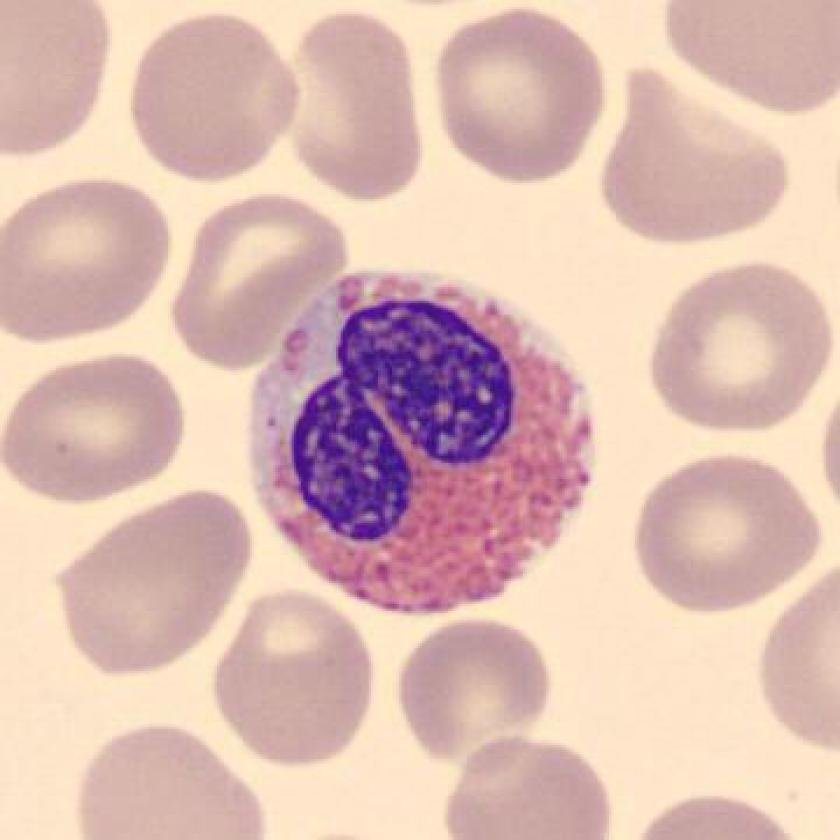eosinophil: (235, 254, 606, 631)
